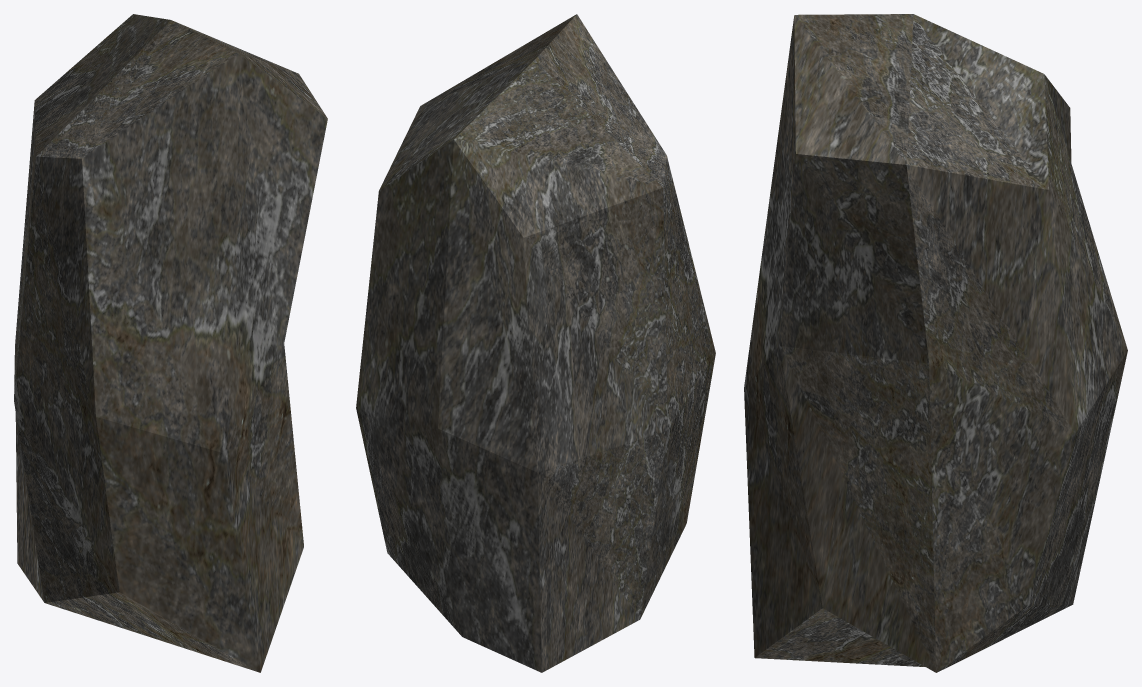
File: Stone.fbx
3 renders of one model, left to right at view 1: azimuth 30°, elevation 25°; view 2: azimuth 150°, elevation 25°; view 3: azimuth 270°, elevation 25°, orthographic. The views are drawn at different scales.
Visible parts, largest first — view 1: Cube; view 2: Cube; view 3: Cube.
Part boxes in pixels (x1=…): Cube: x1=14, y1=14, x2=327, y2=672; Cube: x1=356, y1=14, x2=715, y2=672; Cube: x1=744, y1=14, x2=1127, y2=672.
Bounding box in the file's own units: 26.02 × 56.29 × 29.86.
Materials: 1 (1 with a texture image).
